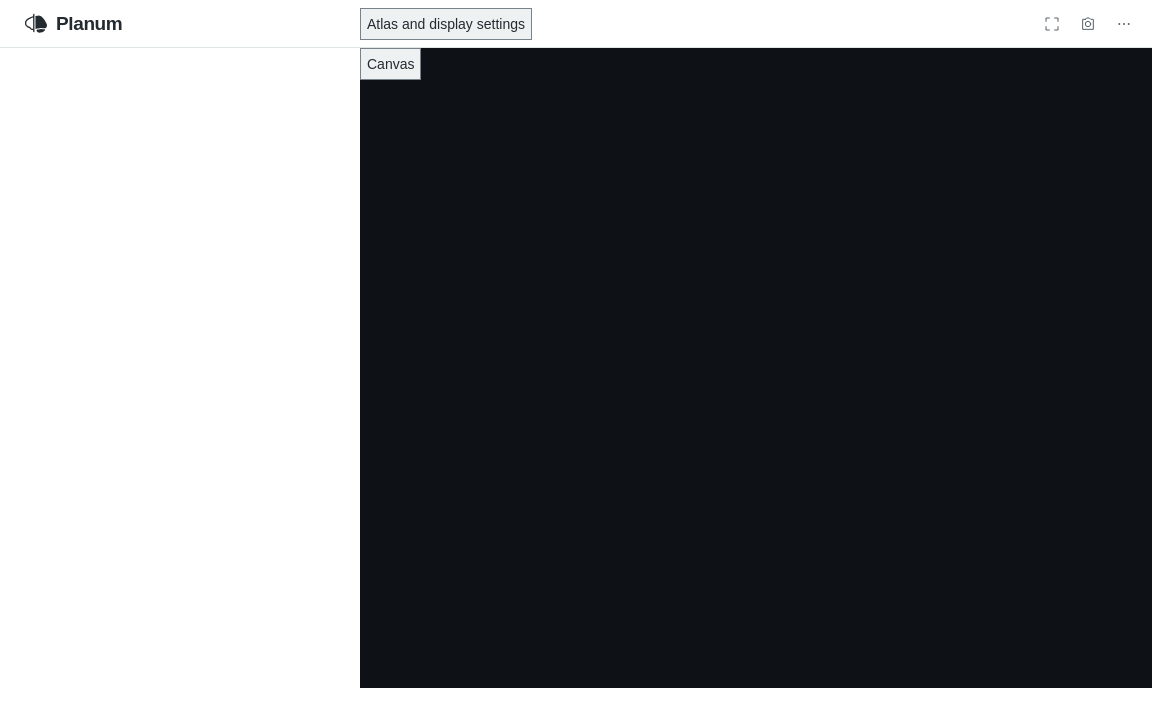
Scenario: Masthead › the masthead is a region whose controls keep their own keys
The width and height of the screenshot is (1152, 720).
Click the button named "More settings" at (1124, 24), box [1108,8,1140,40]
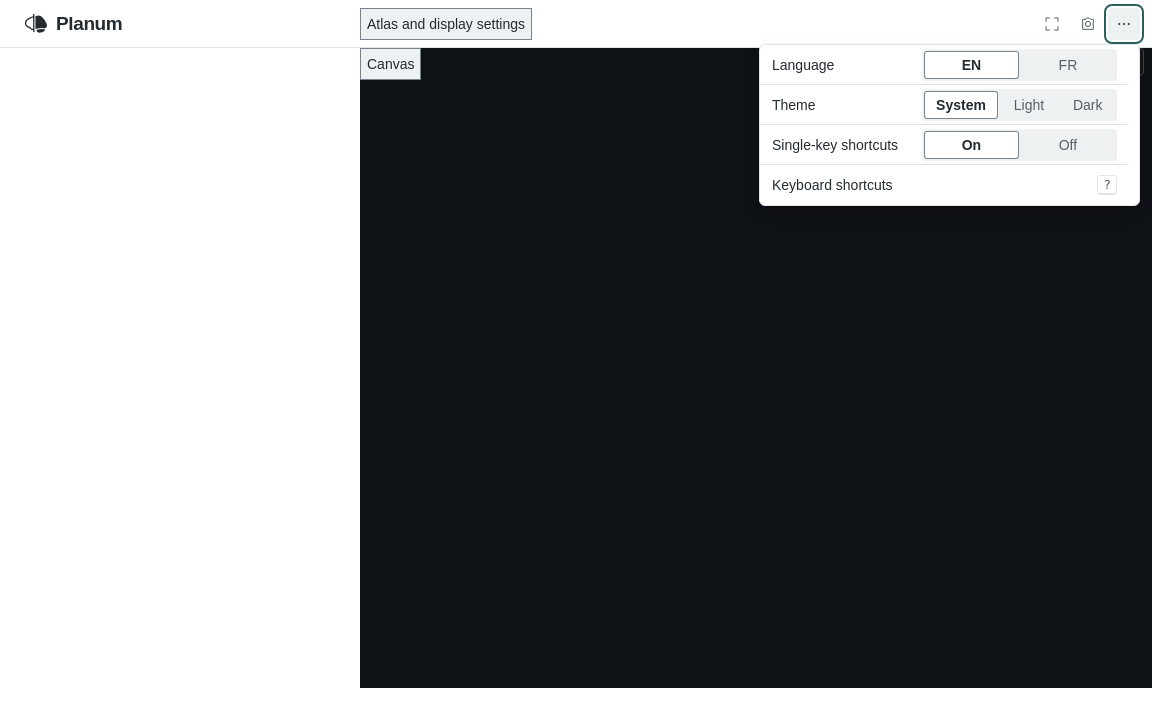
Expected: the button named "Full screen" is shown, [1036,8,1068,40]
Now the element named "Language" is shown, box [922,48,1117,80]
Now the button "Keyboard shortcuts ?" is shown, box [760,165,1129,205]
